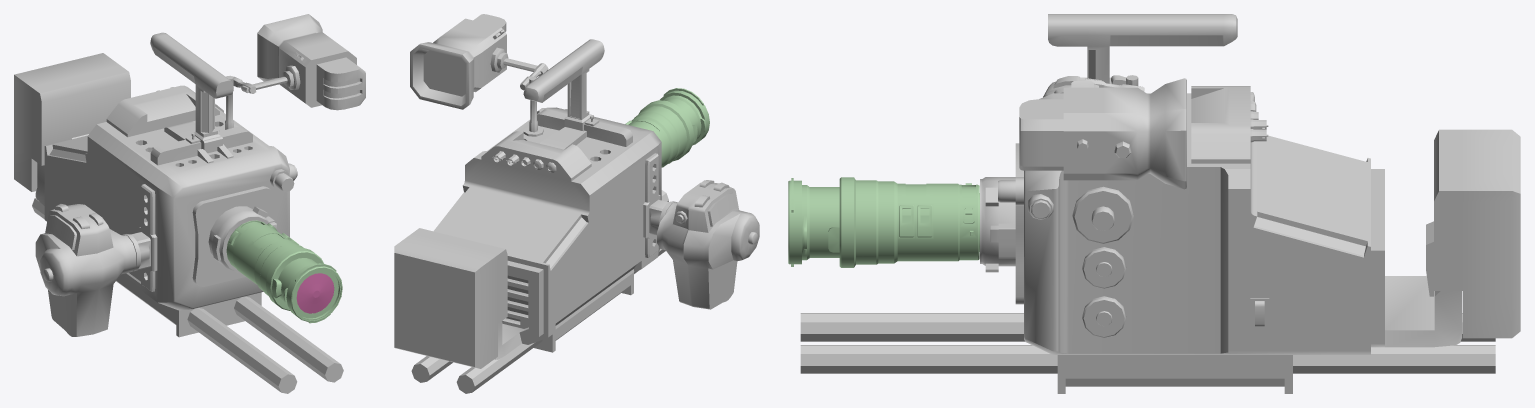
The model's file is Modern Digital Movie Camera Config 01 with Lens.fbx.
3 views of the same model, side by side, from view 1: azimuth 30°, elevation 25°; view 2: azimuth 150°, elevation 25°; view 3: azimuth 270°, elevation 25° (orthographic). The views are drawn at different scales.
Visible parts, largest first — view 1: Cube; view 2: Cube; view 3: Cube.
Part boxes in pixels (<box>): Cube: <box>14,14,365,393</box>; Cube: <box>394,14,759,393</box>; Cube: <box>788,14,1520,393</box>.
Bounding box in the file's own units: 55.22 × 41.61 × 79.04.
